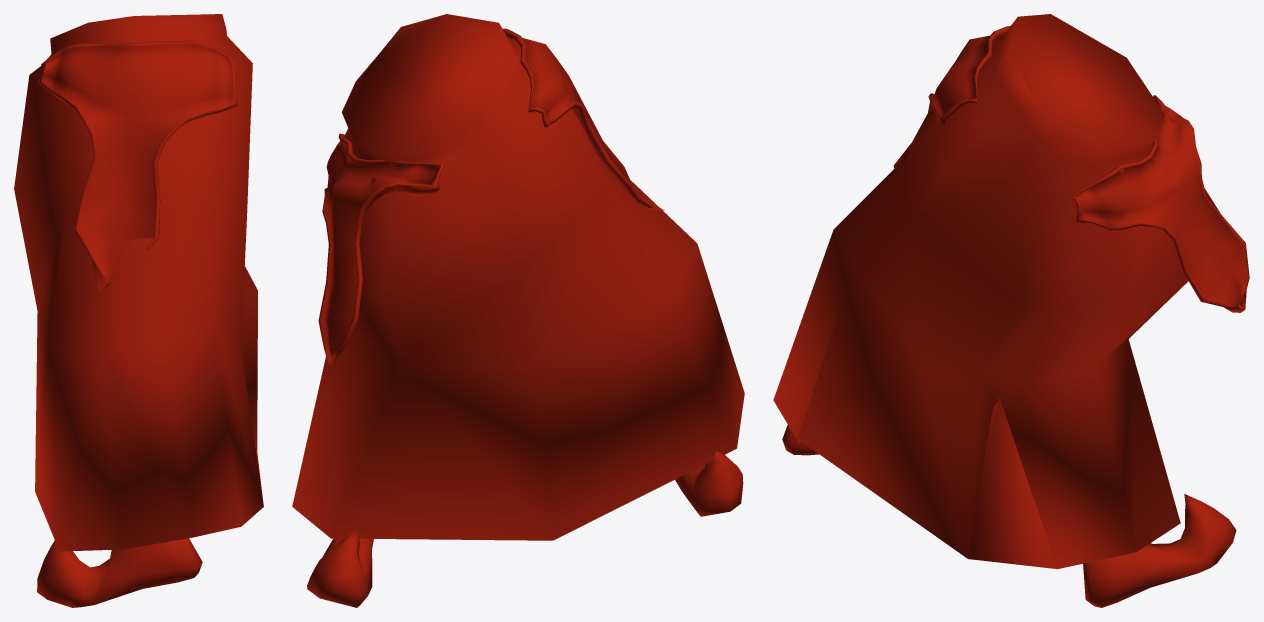
File: bot_000050.obj
3 views of the same model, side by side, from view 1: azimuth 30°, elevation 25°; view 2: azimuth 150°, elevation 25°; view 3: azimuth 270°, elevation 25° (orthographic). The views are drawn at different scales.
Parts seen in each view (by area): view 1: LowPoly_Warlock.004_Plane.004; view 2: LowPoly_Warlock.004_Plane.004; view 3: LowPoly_Warlock.004_Plane.004.
Boxes of the visible parts, left/top/right/bottom form: LowPoly_Warlock.004_Plane.004: left=14, top=14, right=263, bottom=607; LowPoly_Warlock.004_Plane.004: left=292, top=14, right=744, bottom=607; LowPoly_Warlock.004_Plane.004: left=773, top=14, right=1249, bottom=607.
Bounding box in the file's own units: 0.6728 × 1.14 × 0.9089.
